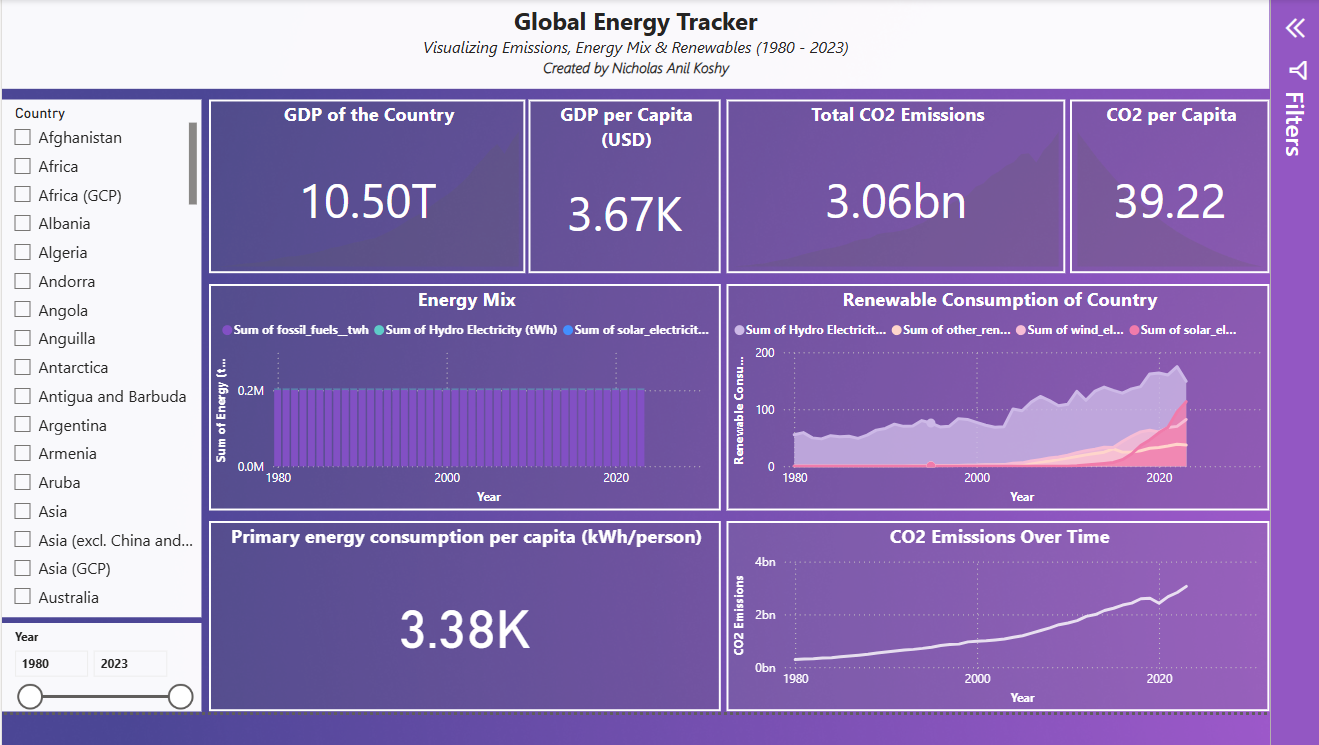

The dashboard page shown, as its layout file describes it:
{"tool":"powerbi","page":{"name":"Page 1","canvas":[1280,720],"ordinal":0},"visuals":[{"type":"textbox","box":[0,0,1279.5,90.9],"z":0},{"type":"slicer","fields":{"Values":["Dim_CountryYear.Country"]},"box":[0,101.5,201.4,522.4],"z":1000},{"type":"slicer","fields":{"Values":["Dim_CountryYear.Year"]},"box":[0,630.7,201.4,89.3],"z":2000},{"type":"kpi","title":"Total CO2 Emissions","fields":{"Indicator":["Avg(annual-co2-emissions-per-country.Total Emissions)"],"TrendLine":["annual-co2-emissions-per-country.Year"]},"box":[731.4,101.5,342.2,175.6],"z":3000},{"type":"areaChart","title":"Renewable Consumption of Country","fields":{"Category":["modern-renewable-energy-consumption.Year"],"Y":["Sum(modern-renewable-energy-consumption.Hydro Electricity (tWh))","Sum(modern-renewable-energy-consumption.other_renewables_electricity_generation_twh)","Sum(modern-renewable-energy-consumption.wind_electricity_generation_twh)","Sum(modern-renewable-energy-consumption.solar_electricity_generation_twh)"]},"box":[731.4,287.7,548.1,228.6],"z":4000},{"type":"kpi","title":"GDP of the Country","fields":{"Indicator":["Avg(owid-co2-data.GDP)"],"TrendLine":["owid-co2-data.Year"]},"box":[209,101.5,319.5,175.6],"z":5000},{"type":"kpi","title":"Primary energy consumption per capita (kWh/person)","fields":{"Indicator":["Avg(energy-use-per-person.Primary energy consumption per capita (kWh/person))"],"TrendLine":["Dim_CountryYear.Year"]},"box":[209,526.9,516.3,192.3],"z":7000},{"type":"columnChart","title":"Energy Mix","fields":{"Category":["Dim_CountryYear.Year"],"Y":["Sum(fossil-fuel-primary-energy.fossil_fuels__twh)","Sum(modern-renewable-energy-consumption.Hydro Electricity (tWh))","Sum(modern-renewable-energy-consumption.solar_electricity_generation_twh)"]},"box":[209,287.7,516.3,228.6],"z":8000},{"type":"kpi","title":"GDP per Capita (USD)","fields":{"Indicator":["owid-co2-data.GDP per Capita"],"TrendLine":["Dim_CountryYear.Year"]},"box":[531.5,101.5,193.8,175.6],"z":8001},{"type":"kpi","title":"CO2 per Capita","fields":{"Indicator":["owid-co2-data.CO2 per Capita"],"TrendLine":["owid-co2-data.Year"]},"box":[1078.1,101.5,201.4,175.6],"z":8002},{"type":"lineChart","title":"CO2 Emissions Over Time","fields":{"Category":["annual-co2-emissions-per-country.Year"],"Y":["Sum(annual-co2-emissions-per-country.Total CO2 Emissions)"]},"box":[731.4,526.9,548.1,192.3],"z":8003}]}

Visuals, with their boxes in screenshot pixels (x1, y1, x2, y2):
textbox: 7 0 1261 89
slicer - Dim_CountryYear.Country: 7 99 204 612
slicer - Dim_CountryYear.Year: 7 618 204 706
"Total CO2 Emissions" kpi: 724 99 1059 272
"Renewable Consumption of Country" areaChart: 724 282 1261 506
"GDP of the Country" kpi: 212 99 525 272
"Primary energy consumption per capita (kWh/person)" kpi: 212 516 718 705
"Energy Mix" columnChart: 212 282 718 506
"GDP per Capita (USD)" kpi: 528 99 718 272
"CO2 per Capita" kpi: 1064 99 1261 272
"CO2 Emissions Over Time" lineChart: 724 516 1261 705
